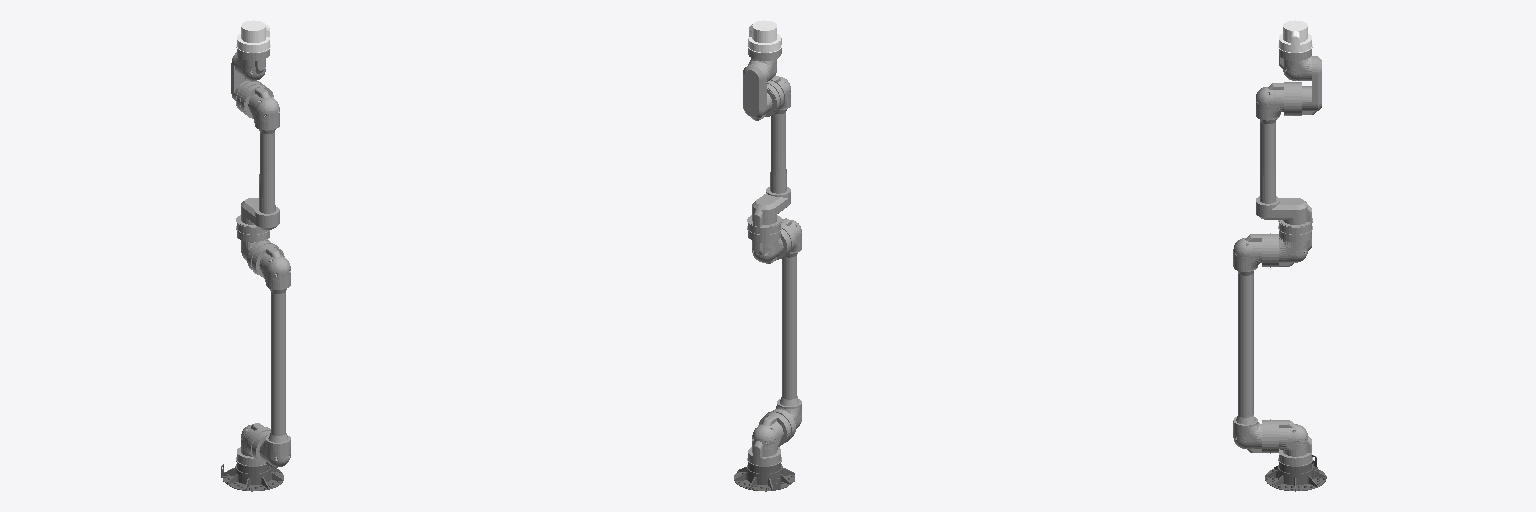
The robot description file, URDF, robot "EURISE_VISPA":
<?xml version="1.0" ?>
<!-- =================================================================================== -->
<!-- |    This document was autogenerated by xacro from src/isaac_ros/simulation/protos/EURISE/EuriseVISPA/urdf/VISPA.urdf.xacro | -->
<!-- |    EDITING THIS FILE BY HAND IS NOT RECOMMENDED                                 | -->
<!-- =================================================================================== -->
<robot name="EURISE_VISPA">
  <!-- Simplified VISPA for Webots -->
  <webots>
    <plugin type="webots_custom_ros2_control::Ros2Control"/>
  </webots>
  <!-- Fixed World -->
  <link name="vispa_base_link"/>
  <!-- joint between parent and link_0 -->
  <joint name="vispa_base_joint" type="fixed">
    <origin rpy="0 0 0" xyz="0 0 0"/>
    <parent link="vispa_base_link"/>
    <child link="vispa_link_0"/>
  </joint>
  <!-- links declaration -->
  <link name="vispa_link_0">
    <visual>
      <geometry>
        <mesh filename="package://simulation/protos/EURISE/EuriseVISPA/meshes/v_vispa_link_0.dae"/>
      </geometry>
      <material name="Grey">
        <color rgba="0.5 0.5 0.5 1.0"/>
      </material>
    </visual>
    <collision>
      <geometry>
        <mesh filename="package://simulation/protos/EURISE/EuriseVISPA/meshes/b_vispa_link_0.dae"/>
      </geometry>
    </collision>
    <inertial>
      <mass value="1.5"/>
      <inertia ixx="0.00281845585208" ixy="0" ixz="0" iyy="0.00281883333333" iyz="0" izz="0.00379978918542"/>
      <origin xyz="0 0 0.0"/>
    </inertial>
  </link>
  <link name="vispa_link_1">
    <visual>
      <geometry>
        <mesh filename="package://simulation/protos/EURISE/EuriseVISPA/meshes/v_vispa_link_1.dae"/>
      </geometry>
      <material name="LightGrey">
        <color rgba="0.7 0.7 0.7 1.0"/>
      </material>
    </visual>
    <collision>
      <geometry>
        <mesh filename="package://simulation/protos/EURISE/EuriseVISPA/meshes/b_vispa_link_1.dae"/>
      </geometry>
    </collision>
    <inertial>
      <mass value="2.2"/>
      <inertia ixx="0.012" ixy="0" ixz="0" iyy="0.007" iyz="0.003" izz="0.008"/>
      <origin xyz="0 -0.029 -0.043"/>
    </inertial>
  </link>
  <link name="vispa_link_2">
    <visual>
      <geometry>
        <mesh filename="package://simulation/protos/EURISE/EuriseVISPA/meshes/v_vispa_link_2.dae"/>
      </geometry>
      <material name="LightGrey"/>
    </visual>
    <collision>
      <geometry>
        <mesh filename="package://simulation/protos/EURISE/EuriseVISPA/meshes/b_vispa_link_2.dae"/>
      </geometry>
    </collision>
    <inertial>
      <mass value="3.8"/>
      <inertia ixx="0.010" ixy="0" ixz="0" iyy="0.578" iyz="0" izz="0.574"/>
      <origin xyz="0.4 0 0.142"/>
    </inertial>
  </link>
  <link name="vispa_link_3">
    <visual>
      <geometry>
        <mesh filename="package://simulation/protos/EURISE/EuriseVISPA/meshes/v_vispa_link_3.dae"/>
      </geometry>
      <material name="LightGrey"/>
    </visual>
    <collision>
      <geometry>
        <mesh filename="package://simulation/protos/EURISE/EuriseVISPA/meshes/b_vispa_link_3.dae"/>
      </geometry>
    </collision>
    <inertial>
      <mass value="2.2"/>
      <inertia ixx="0.012" ixy="0" ixz="0" iyy="0.008" iyz="0.003" izz="0.007"/>
      <origin xyz="0 0.043 0.029"/>
    </inertial>
  </link>
  <link name="vispa_link_4">
    <visual>
      <geometry>
        <mesh filename="package://simulation/protos/EURISE/EuriseVISPA/meshes/v_vispa_link_4.dae"/>
      </geometry>
      <material name="LightGrey"/>
    </visual>
    <collision>
      <geometry>
        <mesh filename="package://simulation/protos/EURISE/EuriseVISPA/meshes/b_vispa_link_4.dae"/>
      </geometry>
    </collision>
    <inertial>
      <mass value="3"/>
      <inertia ixx="0.199" ixy="0" ixz="0" iyy="0.193" iyz="0.01" izz="0.01"/>
      <origin xyz="0 -0.043 -0.210"/>
    </inertial>
  </link>
  <link name="vispa_link_5">
    <visual>
      <geometry>
        <mesh filename="package://simulation/protos/EURISE/EuriseVISPA/meshes/v_vispa_link_5.dae"/>
      </geometry>
      <material name="LightGrey"/>
    </visual>
    <collision>
      <geometry>
        <mesh filename="package://simulation/protos/EURISE/EuriseVISPA/meshes/b_vispa_link_5.dae"/>
      </geometry>
    </collision>
    <inertial>
      <mass value="2.4"/>
      <inertia ixx="0.029" ixy="0" ixz="0" iyy="0.006" iyz="-0.001" izz="0.027"/>
      <origin xyz="0 0.125 -0.007"/>
    </inertial>
  </link>
  <link name="vispa_link_6">
    <visual>
      <geometry>
        <mesh filename="package://simulation/protos/EURISE/EuriseVISPA/meshes/v_vispa_link_6.dae"/>
      </geometry>
      <material name="White">
        <color rgba="1.0 1.0 1.0 1.0"/>
      </material>
    </visual>
    <collision>
      <geometry>
        <mesh filename="package://simulation/protos/EURISE/EuriseVISPA/meshes/b_vispa_link_6.dae"/>
      </geometry>
    </collision>
    <inertial>
      <mass value="3.3"/>
      <inertia ixx="0.002" ixy="0" ixz="0" iyy="0.002" iyz="0" izz="0.001"/>
      <origin xyz="-0.002 0.003 -0.079"/>
    </inertial>
  </link>
  <link name="vispa_end_effector"/>
  <!-- joints declaration -->
  <joint name="vispa_link_1_joint" type="revolute">
    <parent link="vispa_link_0"/>
    <child link="vispa_link_1"/>
    <axis xyz="0 0 1"/>
    <limit effort="50" lower="-3.14149265359" upper="3.14149265359" velocity="1.57079632679"/>
    <origin rpy="0 0 0" xyz="0 0 0.081999"/>
  </joint>
  <joint name="vispa_link_2_joint" type="revolute">
    <parent link="vispa_link_1"/>
    <child link="vispa_link_2"/>
    <axis xyz="0 -1 0"/>
    <limit effort="50" lower="-3.14149265359" upper="3.14149265359" velocity="1.57079632679"/>
    <origin rpy="0 0 0" xyz="0.00000 -0.097168 0.097168"/>
  </joint>
  <joint name="vispa_link_3_joint" type="revolute">
    <parent link="vispa_link_2"/>
    <child link="vispa_link_3"/>
    <axis xyz="0 1 0"/>
    <limit effort="50" lower="-3.14149265359" upper="3.14149265359" velocity="1.57079632679"/>
    <origin rpy="0 0 0" xyz="0.000000 0.000000 0.799886"/>
  </joint>
  <joint name="vispa_link_4_joint" type="revolute">
    <parent link="vispa_link_3"/>
    <child link="vispa_link_4"/>
    <axis xyz="0 0 1"/>
    <limit effort="50" lower="-3.14149265359" upper="3.14149265359" velocity="1.57079632679"/>
    <origin rpy="0 0 0" xyz="0.000000 0.097168 0.097168"/>
  </joint>
  <joint name="vispa_link_5_joint" type="revolute">
    <parent link="vispa_link_4"/>
    <child link="vispa_link_5"/>
    <axis xyz="0 1 0"/>
    <limit effort="50" lower="-3.14149265359" upper="3.14149265359" velocity="1.57079632679"/>
    <origin rpy="0 0 0" xyz="0.000085 -0.010896 0.552458"/>
  </joint>
  <joint name="vispa_link_6_joint" type="revolute">
    <parent link="vispa_link_5"/>
    <child link="vispa_link_6"/>
    <axis xyz="0 0 1"/>
    <limit effort="50" lower="-3.14149265359" upper="3.14149265359" velocity="1.57079632679"/>
    <origin rpy="0 0 0" xyz="-0.000063 0.009315 0.227028"/>
  </joint>
  <joint name="vispa_end_effector_joint" type="fixed">
    <parent link="vispa_link_6"/>
    <child link="vispa_end_effector"/>
    <origin rpy="0 0 0" xyz="0 0 0.088"/>
  </joint>
  <ros2_control mock_type="webots" name="WebotsControl" type="system">
    <hardware>
      <plugin>webots_custom_ros2_control::Ros2ControlSystem</plugin>
    </hardware>
    <joint name="vispa_link_1_joint">
      <command_interface name="position"/>
      <command_interface name="velocity"/>
      <state_interface name="position"/>
      <state_interface name="velocity"/>
      <state_interface name="effort"/>
      <param name="initial_position">0.0</param>
      <!-- initial position for the FakeSystem -->
    </joint>
    <joint name="vispa_link_2_joint">
      <command_interface name="position"/>
      <command_interface name="velocity"/>
      <state_interface name="position"/>
      <state_interface name="velocity"/>
      <state_interface name="effort"/>
      <param name="initial_position">0.0</param>
      <!-- initial position for the FakeSystem -->
    </joint>
    <joint name="vispa_link_3_joint">
      <command_interface name="position"/>
      <command_interface name="velocity"/>
      <state_interface name="position"/>
      <state_interface name="velocity"/>
      <state_interface name="effort"/>
      <param name="initial_position">0.0</param>
      <!-- initial position for the FakeSystem -->
    </joint>
    <joint name="vispa_link_4_joint">
      <command_interface name="position"/>
      <command_interface name="velocity"/>
      <state_interface name="position"/>
      <state_interface name="velocity"/>
      <state_interface name="effort"/>
      <param name="initial_position">0.0</param>
      <!-- initial position for the FakeSystem -->
    </joint>
    <joint name="vispa_link_5_joint">
      <command_interface name="position"/>
      <command_interface name="velocity"/>
      <state_interface name="position"/>
      <state_interface name="velocity"/>
      <state_interface name="effort"/>
      <param name="initial_position">0.0</param>
      <!-- initial position for the FakeSystem -->
    </joint>
    <joint name="vispa_link_6_joint">
      <command_interface name="position"/>
      <command_interface name="velocity"/>
      <state_interface name="position"/>
      <state_interface name="velocity"/>
      <state_interface name="effort"/>
      <param name="initial_position">0.0</param>
      <!-- initial position for the FakeSystem -->
    </joint>
  </ros2_control>
</robot>

--- Facts derived from the render (not from the file) ---
The picture shows the robot from 3 angles, left to right: view 1: azimuth 30°, elevation 25°; view 2: azimuth 150°, elevation 25°; view 3: azimuth 270°, elevation 25°; orthographic projection.
Model EURISE_VISPA with 9 links and 8 joints (6 revolute, 2 fixed), rooted at vispa_base_link, posed all joints at 0.
Visible links, largest first — view 1: vispa_link_2, vispa_link_4, vispa_link_5, vispa_link_0, vispa_link_6, vispa_link_1, vispa_link_3; view 2: vispa_link_2, vispa_link_4, vispa_link_5, vispa_link_1, vispa_link_0, vispa_link_3, vispa_link_6; view 3: vispa_link_2, vispa_link_4, vispa_link_5, vispa_link_1, vispa_link_0, vispa_link_3, vispa_link_6.
Boxes of the visible links, x1,y1,x2,y2 form: vispa_link_2: (251, 243, 290, 468); vispa_link_4: (236, 84, 279, 234); vispa_link_5: (231, 49, 269, 114); vispa_link_0: (221, 461, 283, 491); vispa_link_6: (236, 20, 270, 52); vispa_link_1: (236, 423, 270, 466); vispa_link_3: (236, 226, 270, 269); vispa_link_2: (773, 218, 801, 438); vispa_link_4: (747, 75, 790, 234); vispa_link_5: (743, 48, 781, 120); vispa_link_1: (747, 411, 791, 466); vispa_link_0: (734, 461, 794, 491); vispa_link_3: (747, 226, 791, 263); vispa_link_6: (747, 20, 781, 52); vispa_link_2: (1233, 233, 1270, 453); vispa_link_4: (1256, 82, 1312, 234); vispa_link_5: (1279, 49, 1321, 115); vispa_link_1: (1271, 420, 1312, 466); vispa_link_0: (1265, 455, 1326, 491); vispa_link_3: (1271, 226, 1312, 266); vispa_link_6: (1278, 20, 1312, 52).
Bounding box of the posed robot: 0.235 × 0.3624 × 1.94 m (x, y, z).
Meshes: 7 distinct files referenced, 7 mesh visuals loaded (7 Collada DAE).
